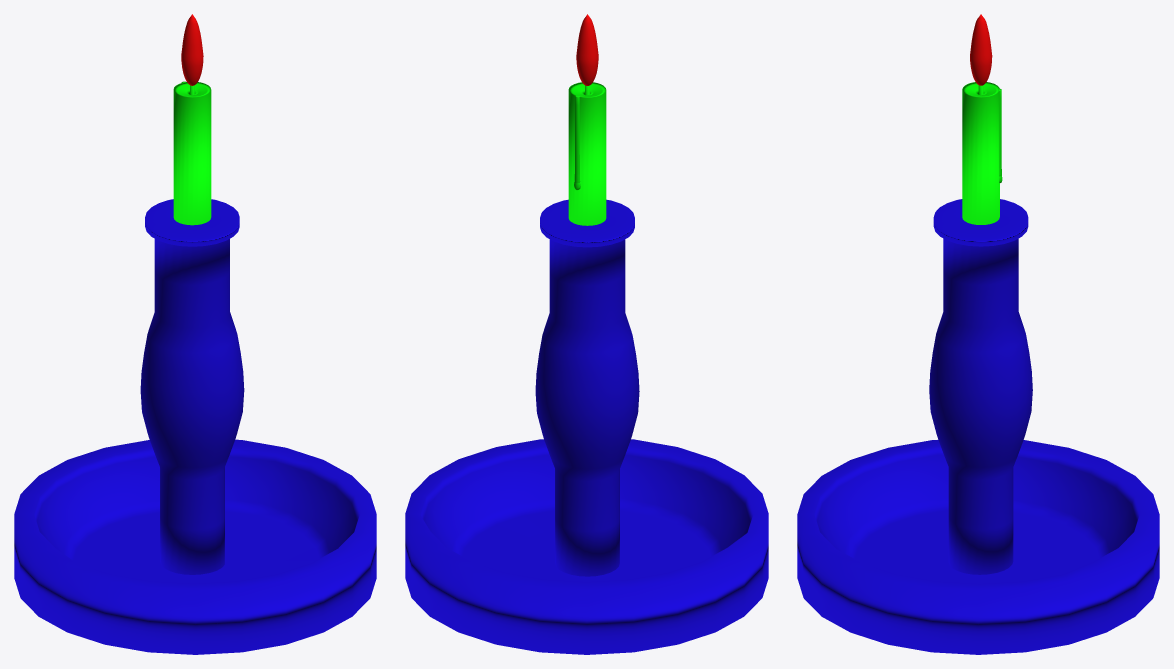
Rendered from bougie_finale.fbx.
3 renders of one model, left to right at view 1: azimuth 30°, elevation 25°; view 2: azimuth 150°, elevation 25°; view 3: azimuth 270°, elevation 25°, orthographic.
Parts seen in each view (by area): view 1: Cylinder001, Object, Object002; view 2: Cylinder001, Object, Object002; view 3: Cylinder001, Object, Object002.
Boxes of the visible parts, x1=… form: Cylinder001: x1=14, y1=199, x2=376, y2=654; Object: x1=173, y1=81, x2=211, y2=225; Object002: x1=181, y1=14, x2=203, y2=85; Cylinder001: x1=405, y1=199, x2=768, y2=654; Object: x1=568, y1=82, x2=606, y2=225; Object002: x1=576, y1=14, x2=598, y2=85; Cylinder001: x1=797, y1=199, x2=1159, y2=654; Object: x1=962, y1=82, x2=1002, y2=224; Object002: x1=970, y1=14, x2=992, y2=85.
Size of the model in its own units: 1.71 by 2.93 by 1.71.
